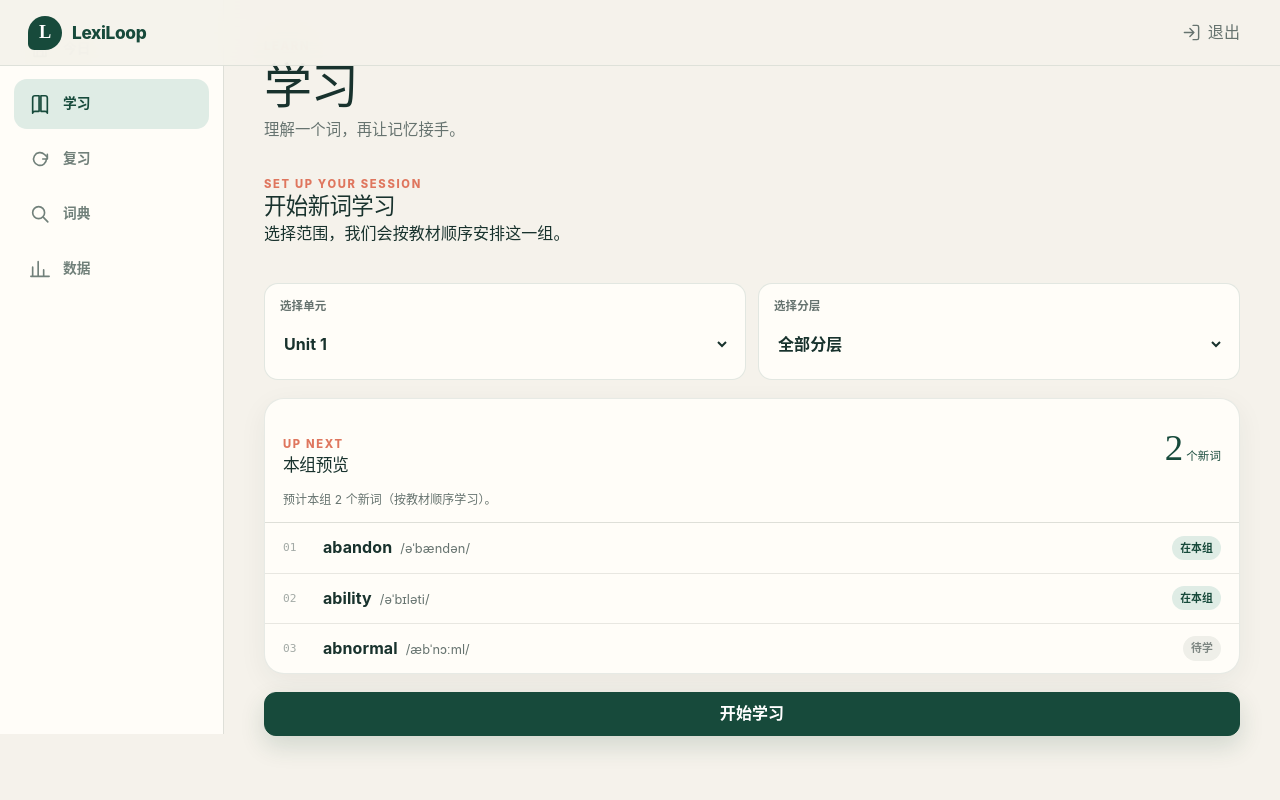
Test case: new-word learning journey › offers the session-pinned audio beside each real-exam sentence
(page scrolled)
Expected: the heading "学习" is shown, top-left (264, 56), bottom-right (358, 115)
Click the button "开始学习".
click(752, 714)  # box top-left (264, 692), bottom-right (1240, 736)
(page scrolled)
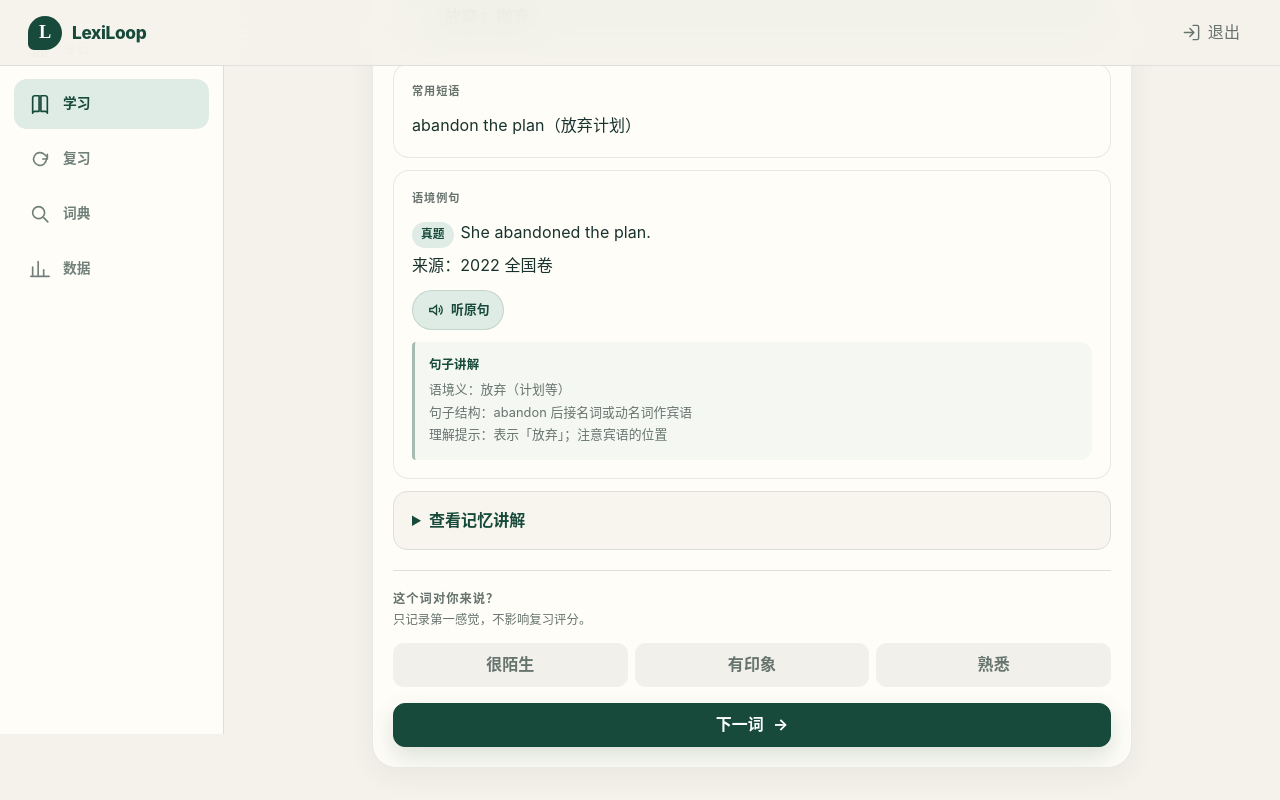
Result: the element named "真题句子讲解" shows "语境义：放弃（计划等）" at top-left (412, 342), bottom-right (1092, 460)
Result: the element named "真题句子讲解" shows "句子结构：abandon 后接名词或动名词作宾语" at top-left (412, 342), bottom-right (1092, 460)
Result: the element named "真题句子讲解" shows "理解提示：表示「放弃」；注意宾语的位置" at top-left (412, 342), bottom-right (1092, 460)
